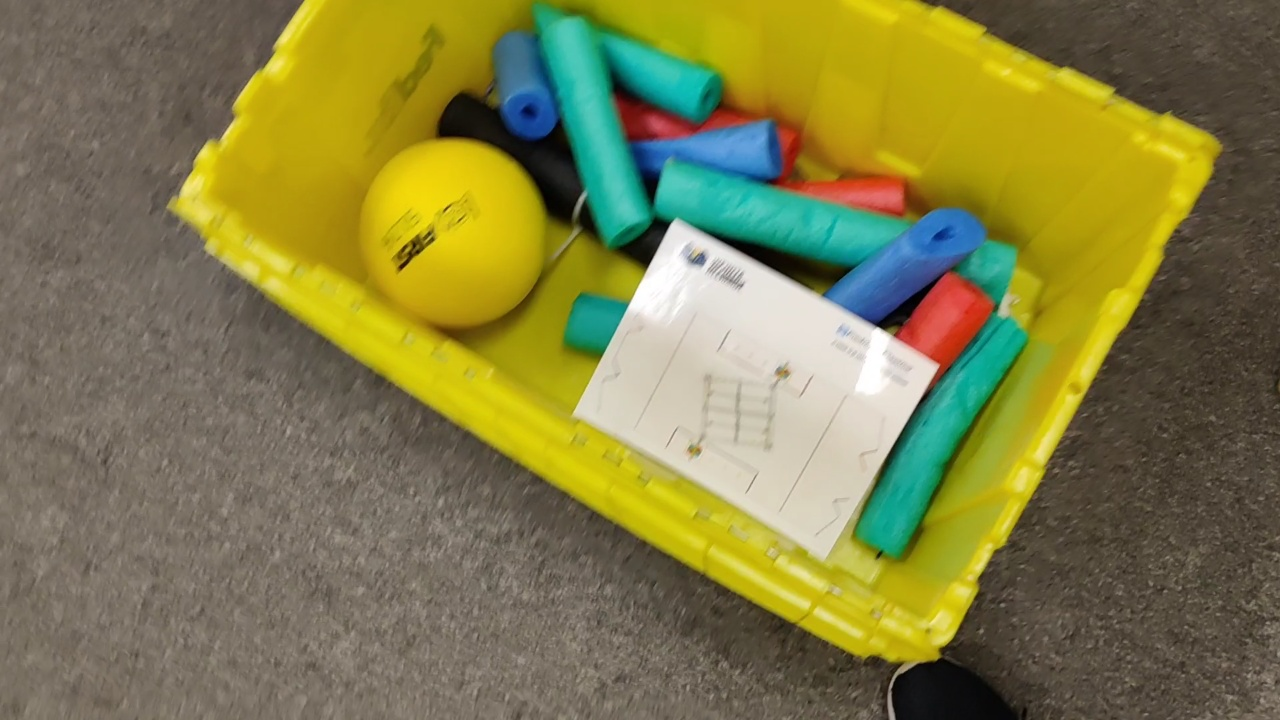Ball: (362, 136, 549, 326)
